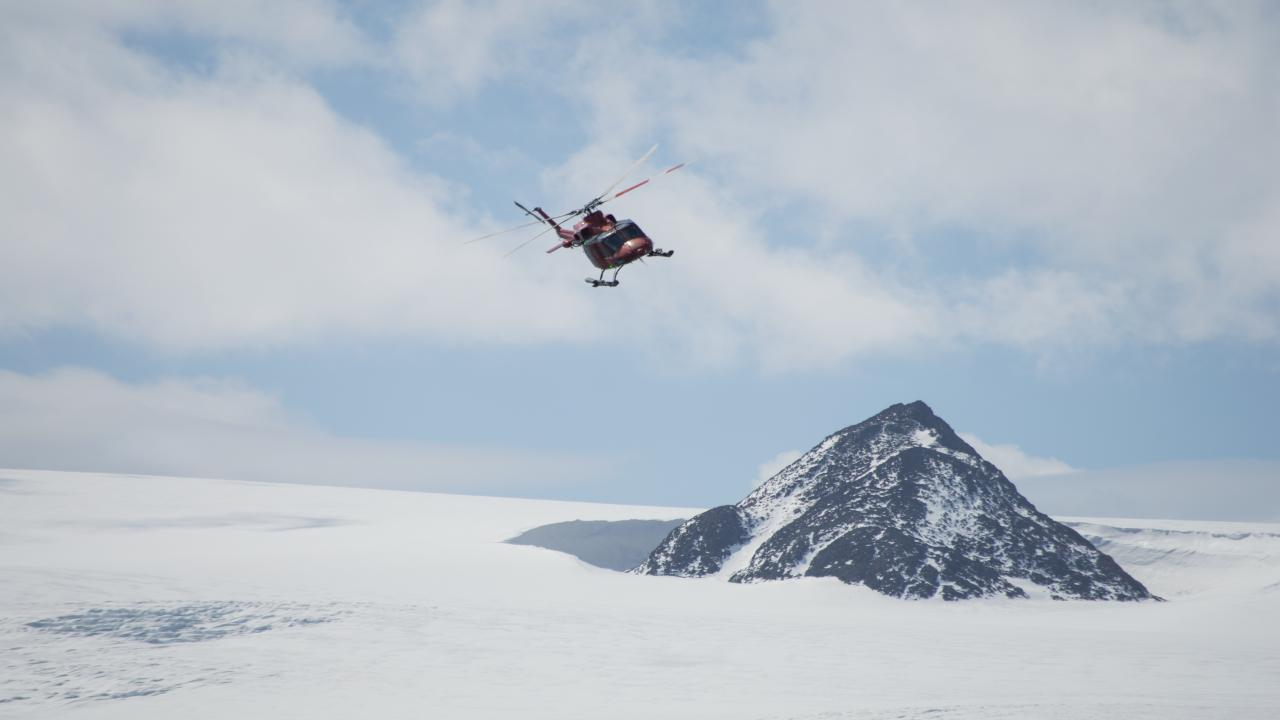Helicopter: (479, 132, 711, 293)
